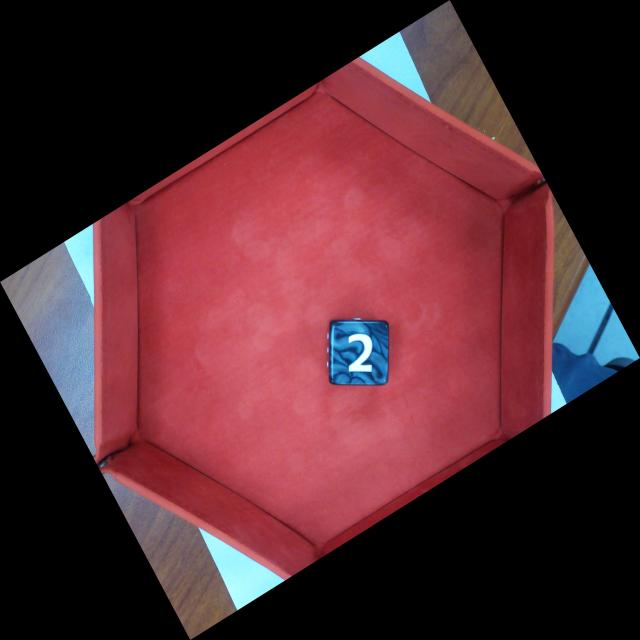dice: (330, 320, 386, 388)
